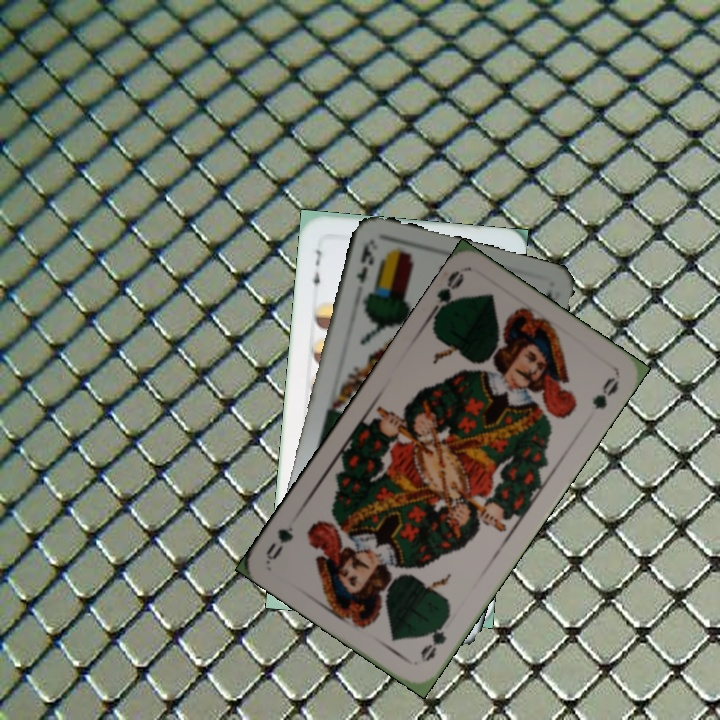E7: (308, 246, 324, 295)
EK: (352, 238, 377, 286)
GO: (425, 266, 467, 323), (416, 612, 452, 665)
